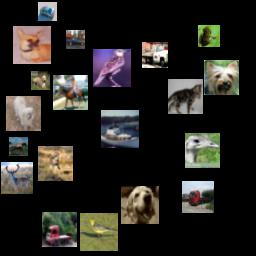automobile: (66, 30, 85, 49), (38, 2, 57, 21)
bird: (93, 49, 131, 87), (80, 213, 118, 251), (185, 133, 220, 168)
cat: (168, 79, 203, 114)
deer: (38, 146, 73, 181), (1, 162, 33, 194)
dog: (13, 26, 51, 64), (121, 186, 159, 224), (204, 60, 239, 95), (6, 96, 41, 131), (31, 71, 50, 90)
frog: (198, 25, 220, 47)
ship: (101, 110, 139, 148)
truck: (42, 212, 77, 247), (182, 181, 214, 213), (142, 42, 168, 68)
